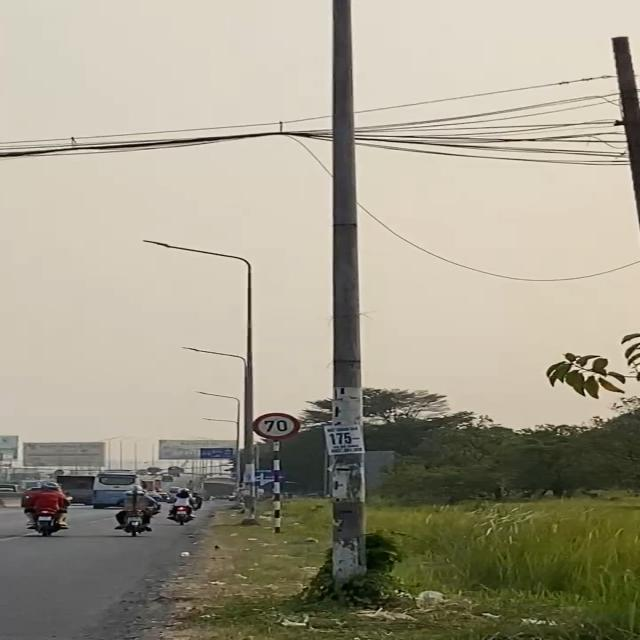127-toc-do-toi-da-70: (250, 412, 302, 440)
